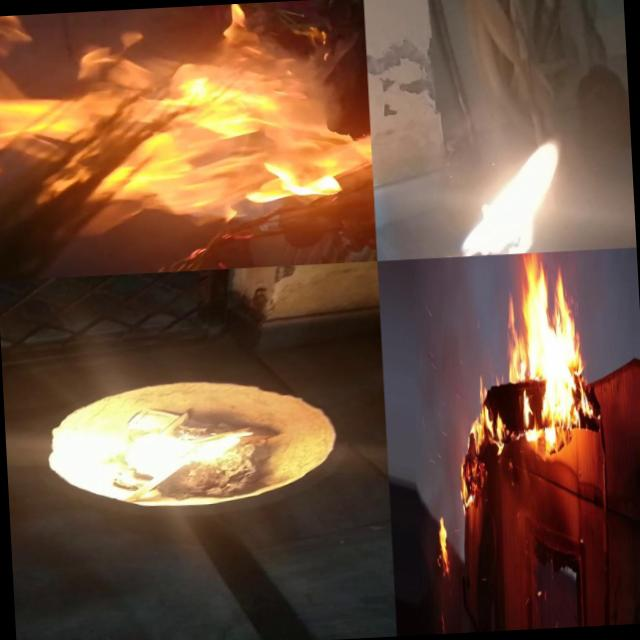fire: (7, 1, 310, 280), (500, 252, 592, 450), (452, 130, 575, 256), (94, 400, 272, 486), (451, 374, 511, 506), (433, 501, 453, 578)
